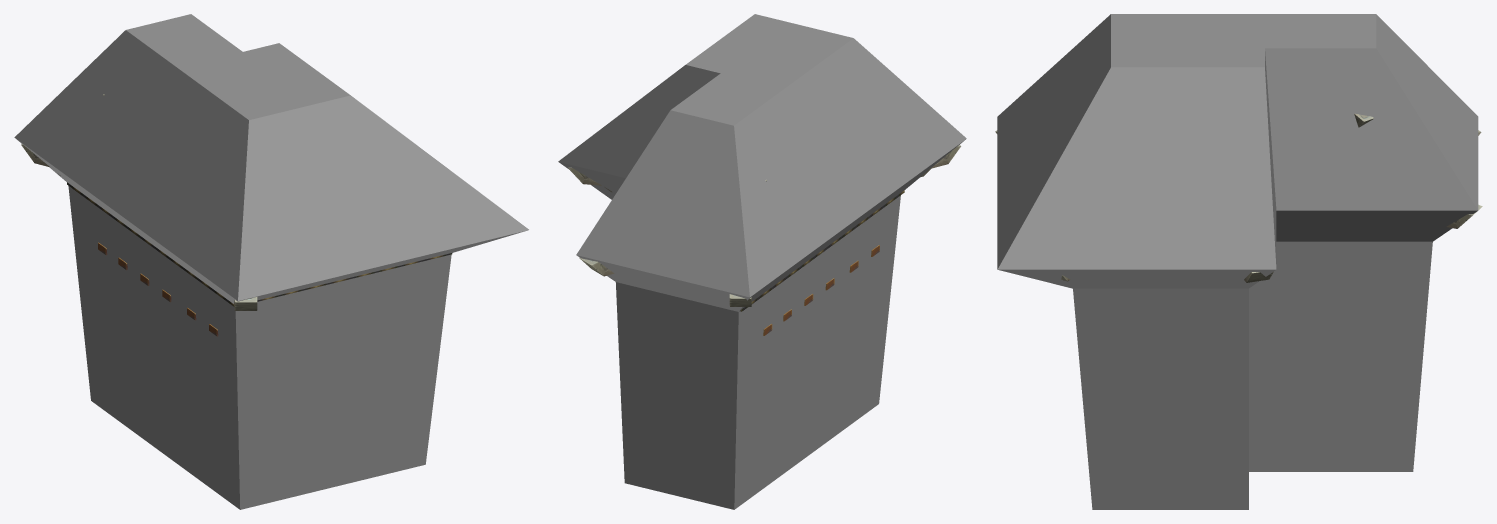
File: fb_jjc_jz_02_f.FBX
3 views of the same model, side by side, from view 1: azimuth 30°, elevation 25°; view 2: azimuth 150°, elevation 25°; view 3: azimuth 270°, elevation 25° (orthographic). The views are drawn at different scales.
Parts seen in each view (by area): view 1: col_fb_jjc_jz_02_f, fb_jjc_jz_02_b, fb_jjc_jz_02_d; view 2: col_fb_jjc_jz_02_f, fb_jjc_jz_02_b, fb_jjc_jz_02_d; view 3: col_fb_jjc_jz_02_f, fb_jjc_jz_02_b.
Boxes of the visible parts, <box> form: col_fb_jjc_jz_02_f: <box>14,14,528,509</box>; fb_jjc_jz_02_b: <box>21,94,257,336</box>; fb_jjc_jz_02_d: <box>67,182,452,306</box>; col_fb_jjc_jz_02_f: <box>558,14,966,509</box>; fb_jjc_jz_02_b: <box>568,145,960,335</box>; fb_jjc_jz_02_d: <box>740,190,904,311</box>; col_fb_jjc_jz_02_f: <box>997,14,1478,509</box>; fb_jjc_jz_02_b: <box>995,113,1482,282</box>.
Bounding box in the file's own units: 464 × 576 × 625.
